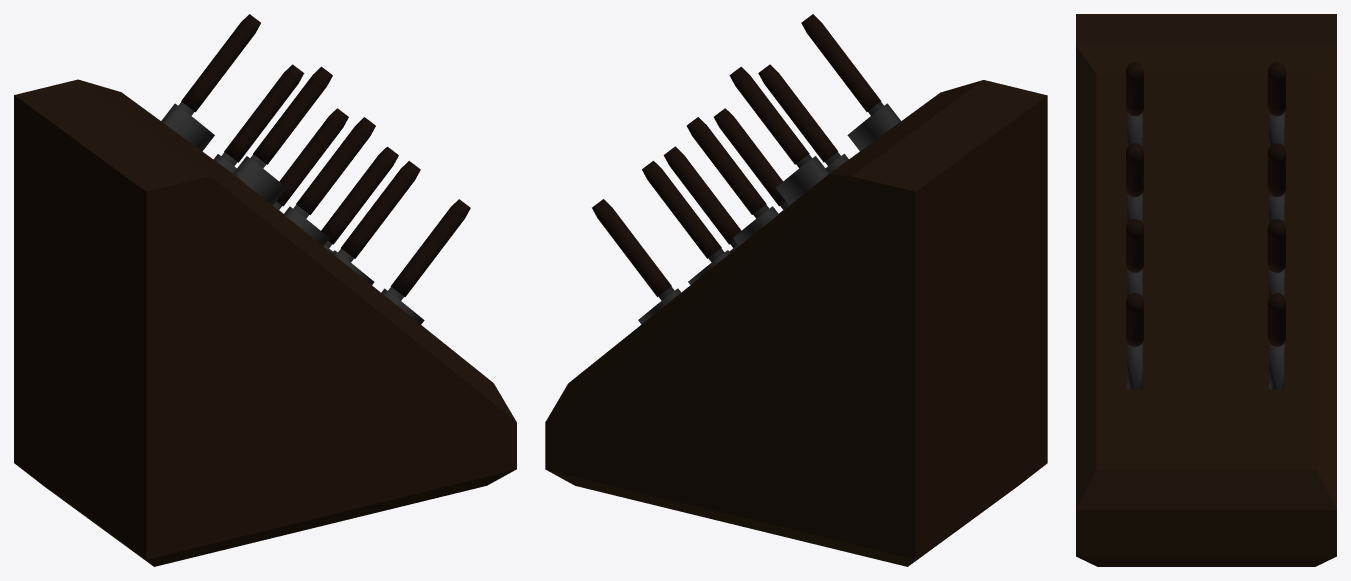
Rendered from knife block.obj.
3 views of the same model, side by side, from view 1: azimuth 30°, elevation 25°; view 2: azimuth 150°, elevation 25°; view 3: azimuth 270°, elevation 25° (orthographic).
Visible parts, largest first — view 1: knife_block_Cube.021; view 2: knife_block_Cube.021; view 3: knife_block_Cube.021.
Boxes of the visible parts, x1,y1,x2,y2 form: knife_block_Cube.021: [14, 14, 516, 566]; knife_block_Cube.021: [545, 14, 1047, 566]; knife_block_Cube.021: [1076, 14, 1336, 566].
Size of the model in its own units: 0.6859 by 0.7776 by 0.4232.
